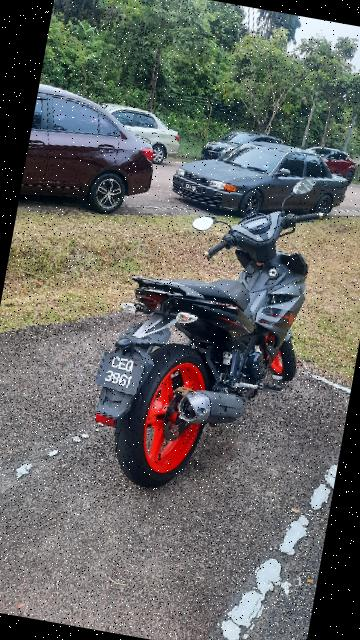License_Plate: (92, 350, 151, 400)
car: (174, 125, 356, 234), (20, 84, 164, 219)
motorcycle: (79, 145, 339, 511)
